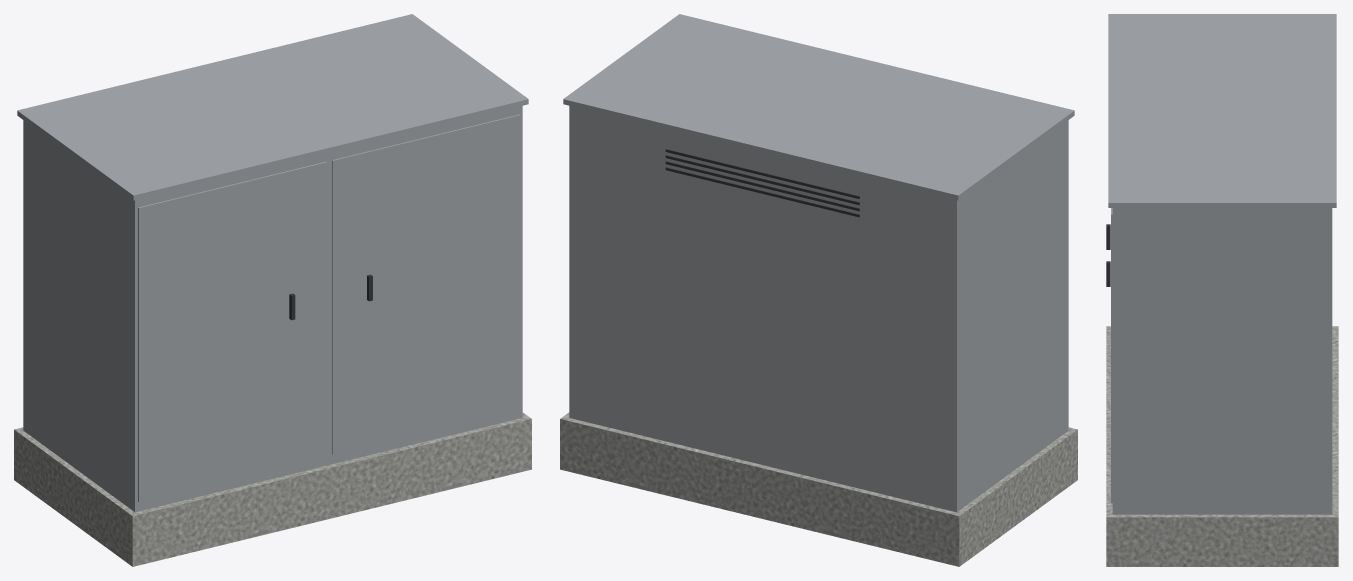
3 renders of one model, left to right at view 1: azimuth 30°, elevation 25°; view 2: azimuth 150°, elevation 25°; view 3: azimuth 270°, elevation 25°, orthographic.
Parts seen in each view (by area): view 1: baseOffset=0;depth=1;height=1.8;material=steel_galv;power=;s (×2); view 2: baseOffset=0;depth=1;height=1.8;material=steel_galv;power=;s (×3); view 3: baseOffset=0;depth=1;height=1.8;material=steel_galv;power=;s (×2).
Boxes of the visible parts, box(x1,y1,x2,y2) form: baseOffset=0;depth=1;height=1.8;material=steel_galv;power=;s (×2): box(14, 14, 531, 566); baseOffset=0;depth=1;height=1.8;material=steel_galv;power=;s (×3): box(560, 14, 1077, 566); baseOffset=0;depth=1;height=1.8;material=steel_galv;power=;s (×2): box(1106, 14, 1338, 566).
Bounding box in the file's own units: 2.06 × 1.06 × 1.83.
Materials: 3 (1 with a texture image).
